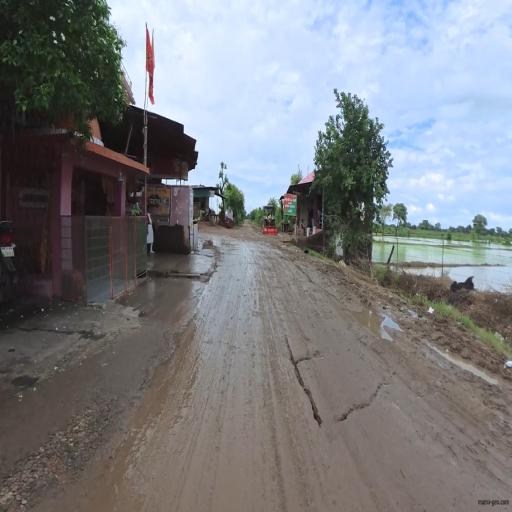longitudinal_crack: (282, 299, 384, 441)
